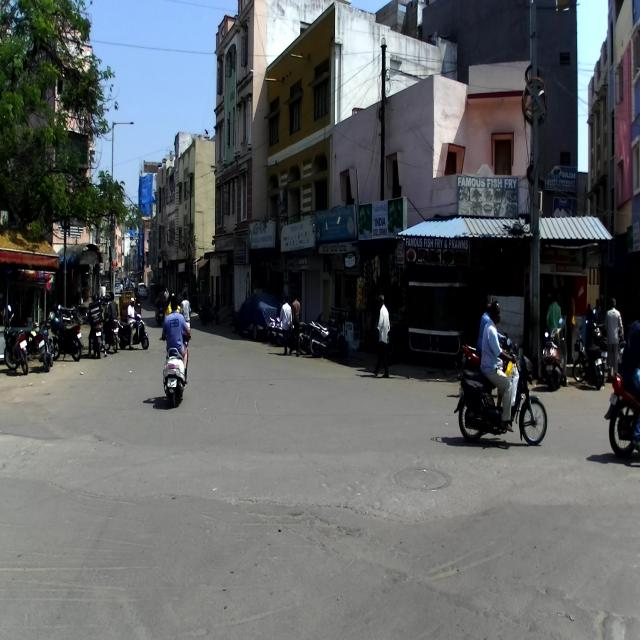high: (280, 298, 291, 351)
